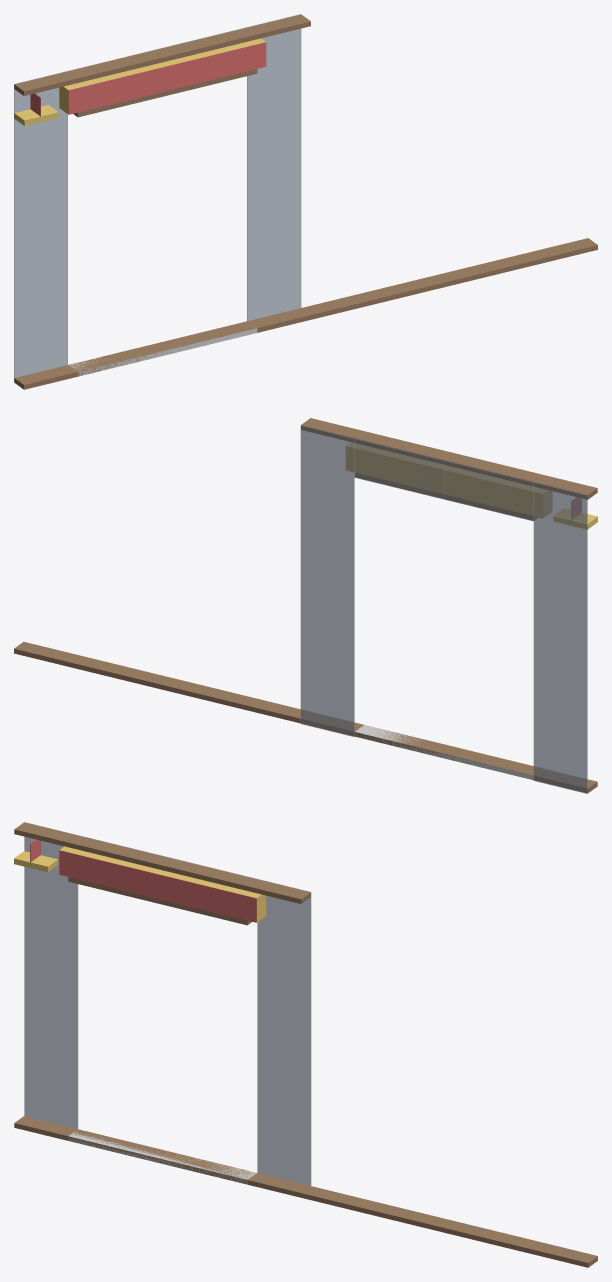
3 renders of one model, top to bottom at view 1: azimuth 30°, elevation 25°; view 2: azimuth 150°, elevation 25°; view 3: azimuth 330°, elevation 25°, orthographic.
Parts seen in each view (by area): view 1: EX20 GF; view 2: EX20 GF; view 3: EX20 GF.
Part boxes in pixels (x1,y1,x2,y2): EX20 GF: [14, 14, 597, 389]; EX20 GF: [14, 418, 597, 793]; EX20 GF: [14, 822, 597, 1267].
Size of the model in its own units: 4.8 by 2.39 by 0.155.
